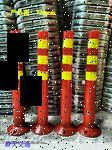bench: (7, 27, 31, 136)
